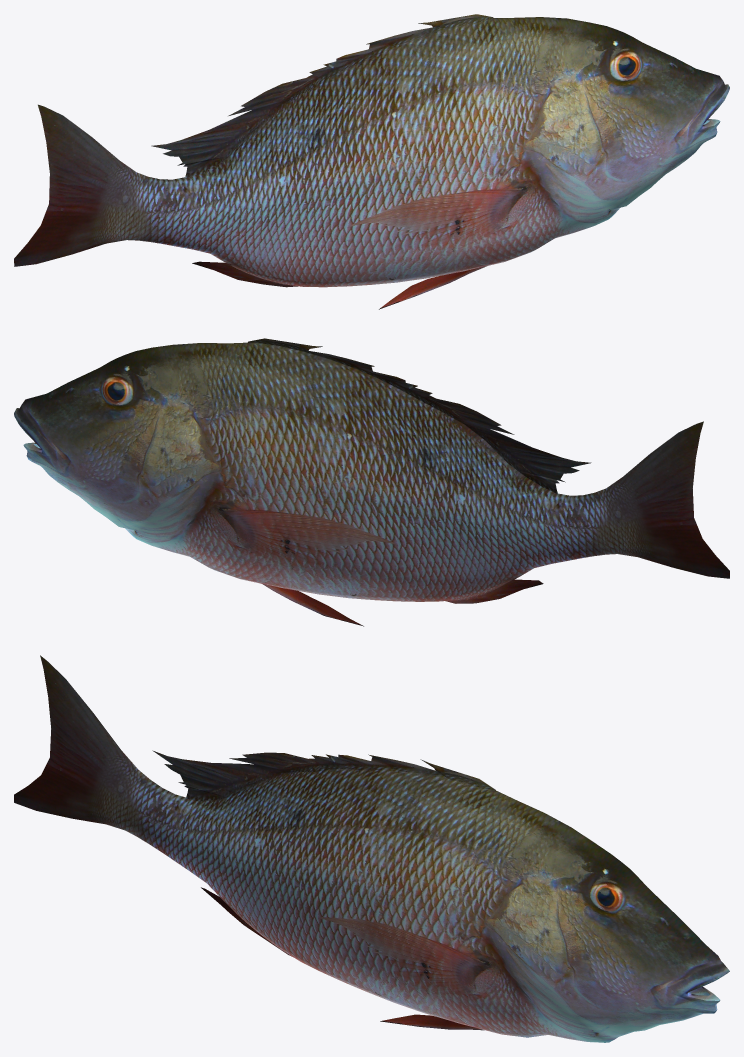
File: fish_2.glb
3 views of the same model, one above another, from view 1: azimuth 30°, elevation 25°; view 2: azimuth 150°, elevation 25°; view 3: azimuth 330°, elevation 25° (orthographic).
Visible parts, largest first — view 1: Line01; view 2: Line01; view 3: Line01.
Part boxes in pixels (<box>): Line01: <box>14,14,729,309</box>; Line01: <box>14,338,729,626</box>; Line01: <box>14,655,729,1042</box>.
Size of the model in its own units: 14.08 by 5.42 by 1.45.
1 material, 1 textured.
